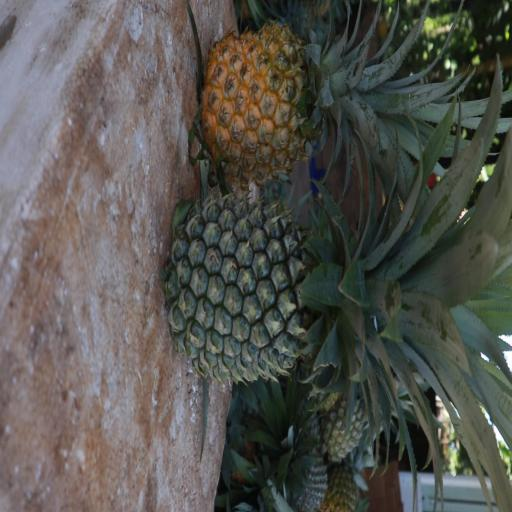Pineapple - v8 v1: (203, 28, 438, 176)
